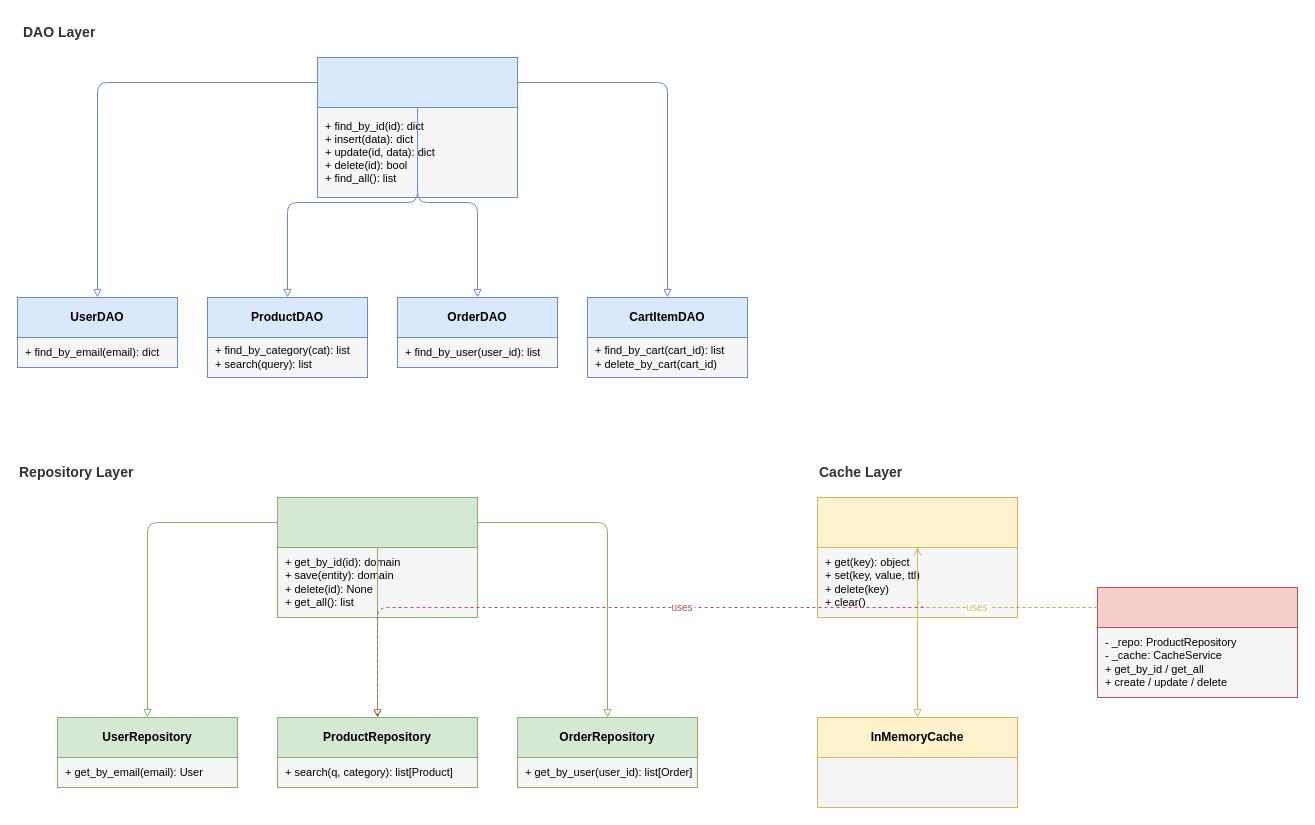
Some shapes in this 1315 by 825 pixel diagram are drawn without their labels. Here are the shapes that lost their labels. From the top down, the centre of each, then its label:
At [417,82]: "«abstract» BaseDAO".
At [377,522]: "«abstract» BaseRepository".
At [917,522]: "«abstract» CacheService".
At [1197,607]: "ProductService".
At [917,782]: "- _store: dict - _lock: RLock + get / set / delete / clear".
